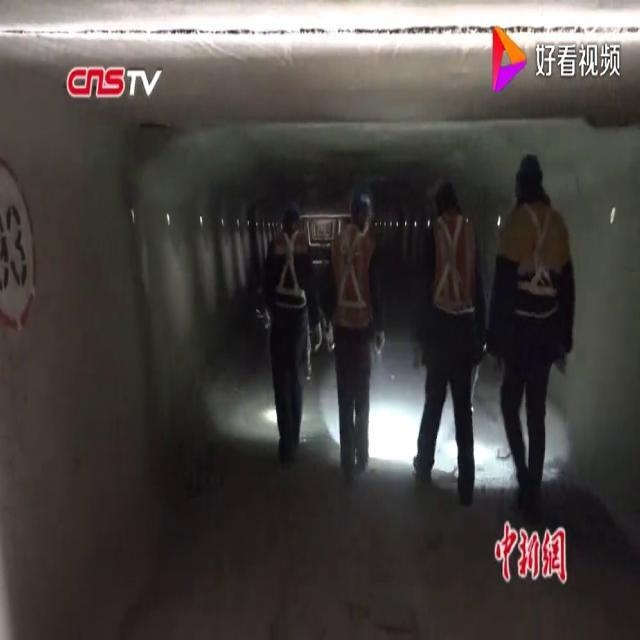Arnes_seguridad: (506, 196, 567, 316), (426, 209, 481, 321), (267, 220, 309, 311), (333, 223, 374, 316)
